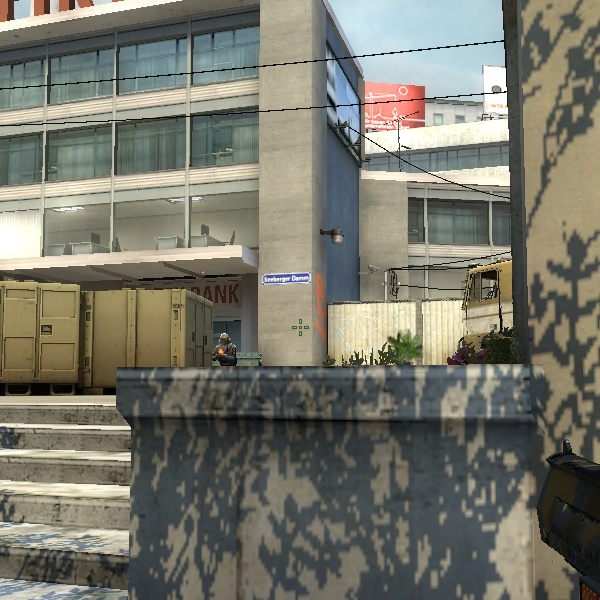ct_body: (205, 330, 247, 366)
ct_head: (217, 331, 234, 348)
